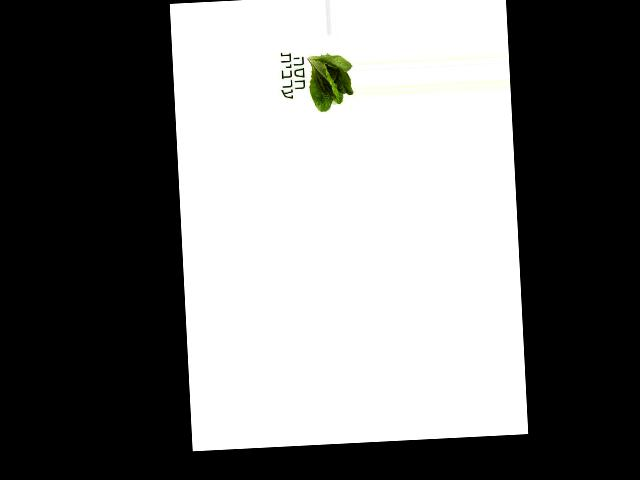lettuce: (302, 49, 354, 113)
